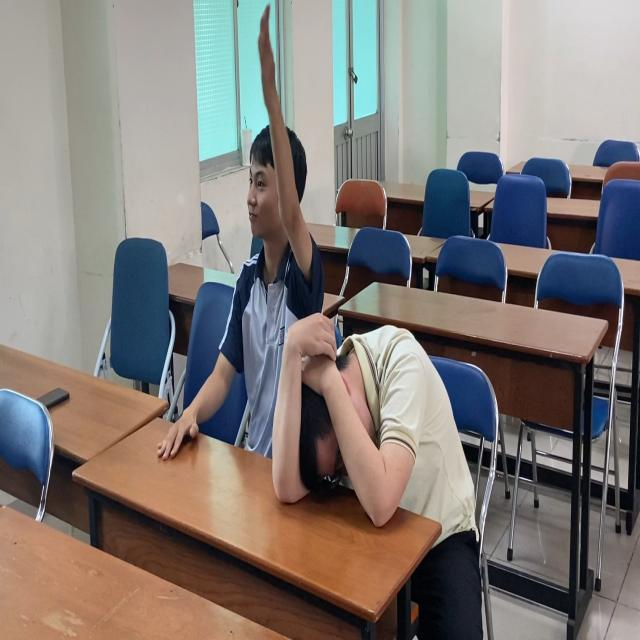raise_hand: (227, 1, 325, 456)
sleep: (269, 295, 482, 538)
